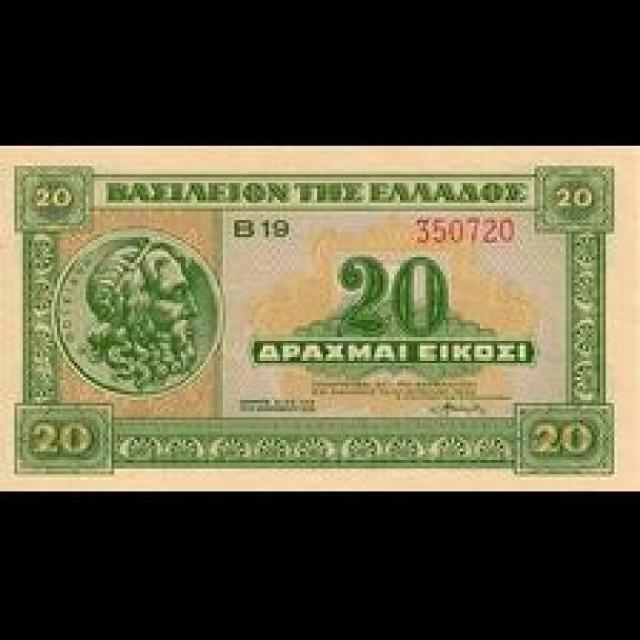banknote: (1, 150, 624, 492), (322, 248, 458, 349), (517, 402, 609, 472), (14, 405, 110, 470), (537, 168, 613, 230), (26, 177, 84, 222)
